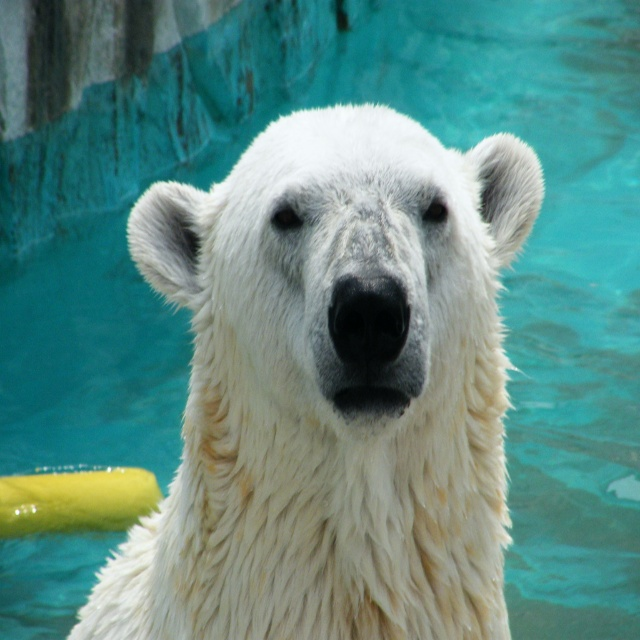Polar bear: (62, 93, 544, 639)
